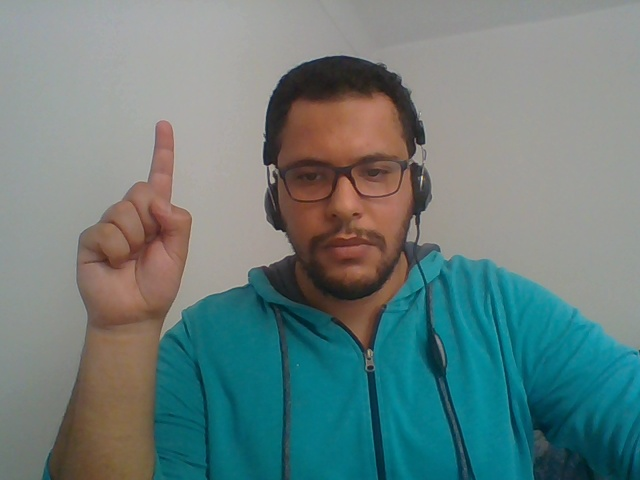handup: (61, 104, 212, 379)
